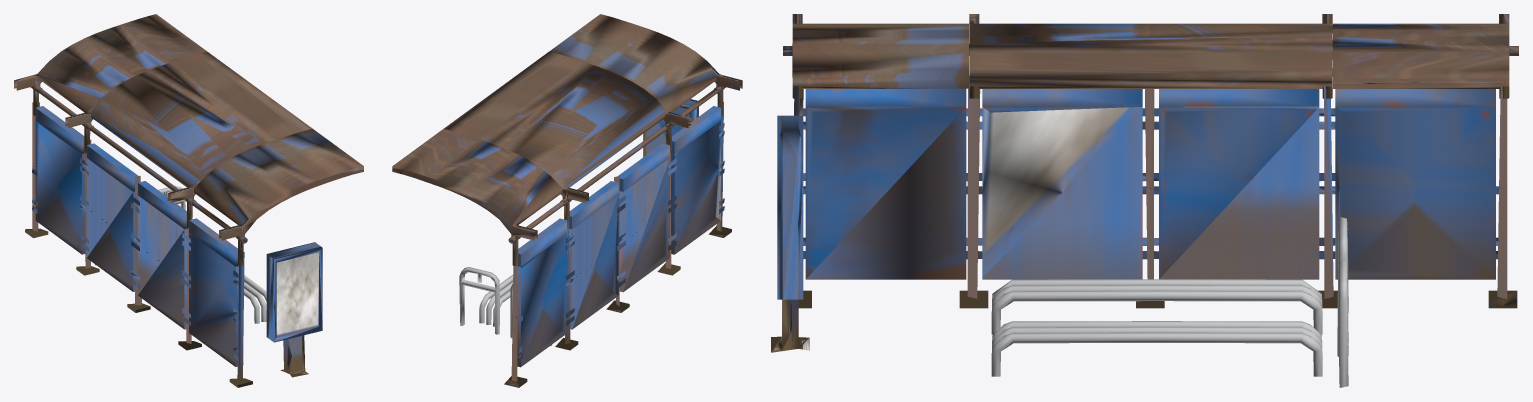
Rendered from pr_bstop.glb.
3 views of the same model, side by side, from view 1: azimuth 30°, elevation 25°; view 2: azimuth 150°, elevation 25°; view 3: azimuth 270°, elevation 25° (orthographic). The views are drawn at different scales.
Visible parts, largest first — view 1: body|Roof, body|Walls, body|material, body|Things, body|Seats; view 2: body|Roof, body|Walls, body|Things, body|Seats, body|material; view 3: body|Walls, body|Roof, body|Seats, body|material, body|Things.
Boxes of the visible parts, x1,y1,x2,y2 form: body|Roof: (14, 14, 363, 265); body|Walls: (32, 102, 244, 381); body|material: (266, 242, 322, 377); body|Things: (25, 158, 252, 387); body|Seats: (95, 186, 266, 323); body|Roof: (392, 14, 742, 265); body|Walls: (511, 102, 723, 381); body|Things: (504, 123, 731, 387); body|Seats: (459, 267, 551, 346); body|material: (643, 99, 698, 157); body|Walls: (794, 76, 1507, 298); body|Roof: (783, 14, 1518, 98); body|Seats: (991, 217, 1348, 387); body|material: (771, 115, 809, 352); body|Things: (798, 108, 1517, 308).
Size of the model in its own units: 2.46 by 3.12 by 6.5.
5 materials, 5 textured.
